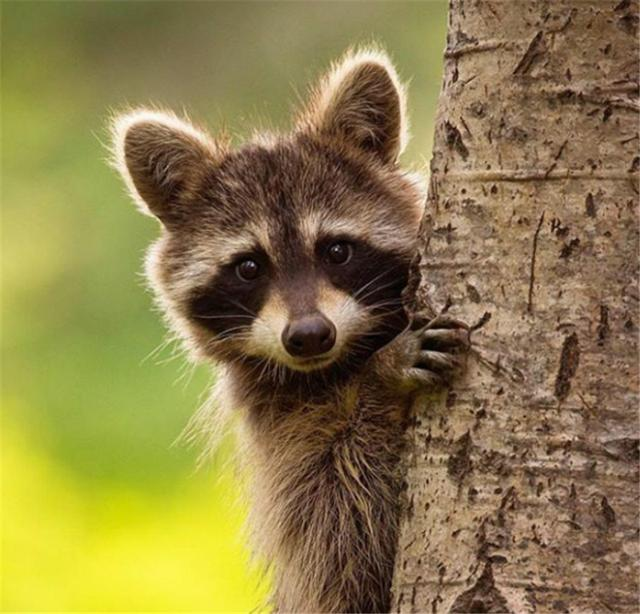raccoon: (95, 39, 493, 612)
